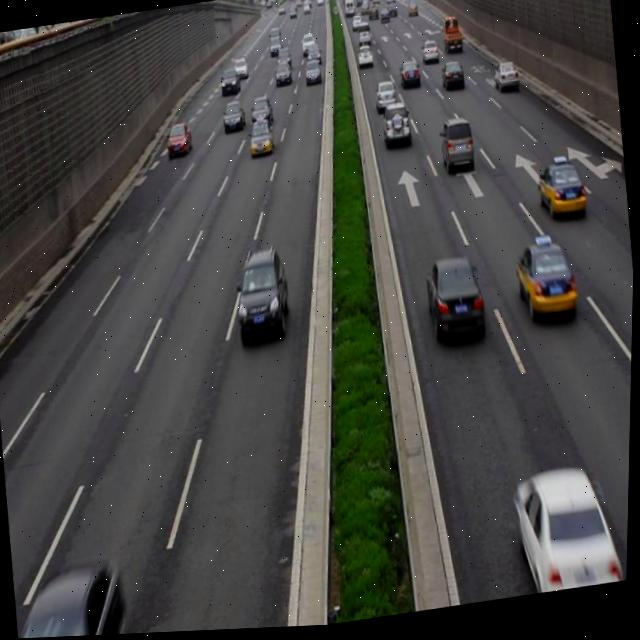car: (512, 466, 626, 601), (14, 564, 131, 639), (233, 251, 293, 346), (424, 260, 484, 350), (512, 245, 578, 324), (532, 154, 588, 227), (381, 104, 412, 151), (246, 118, 276, 161), (165, 123, 194, 162), (373, 81, 399, 120), (222, 102, 248, 136), (440, 64, 465, 97), (492, 61, 517, 94), (250, 98, 273, 129)
truck: (436, 117, 472, 174)
